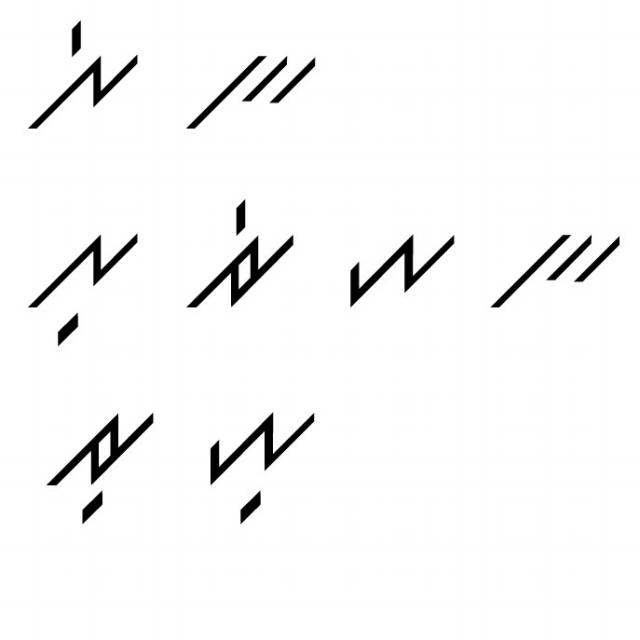le: (21, 19, 148, 145)
lu: (22, 222, 142, 348)
re: (177, 195, 298, 316)
ru: (35, 400, 163, 526)
ya: (340, 219, 459, 310)
yu: (200, 400, 324, 528)
